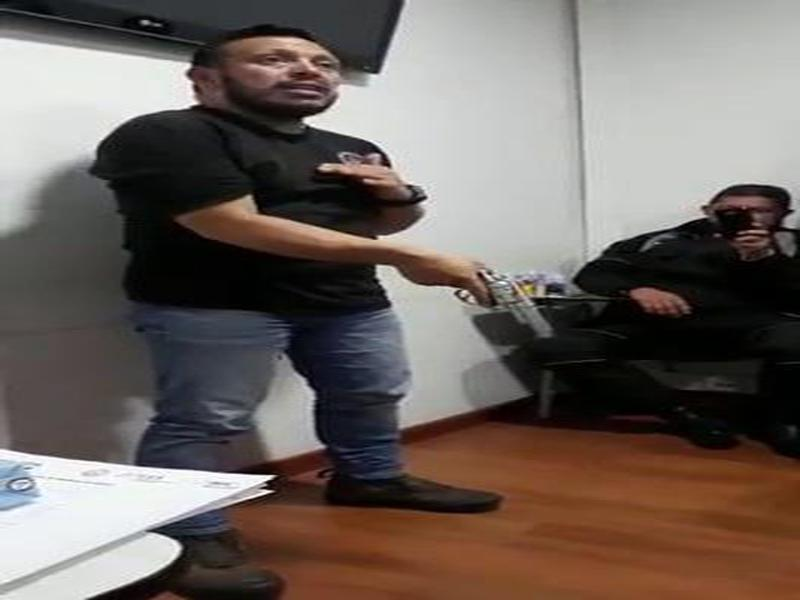Revolver: (428, 247, 566, 354)
